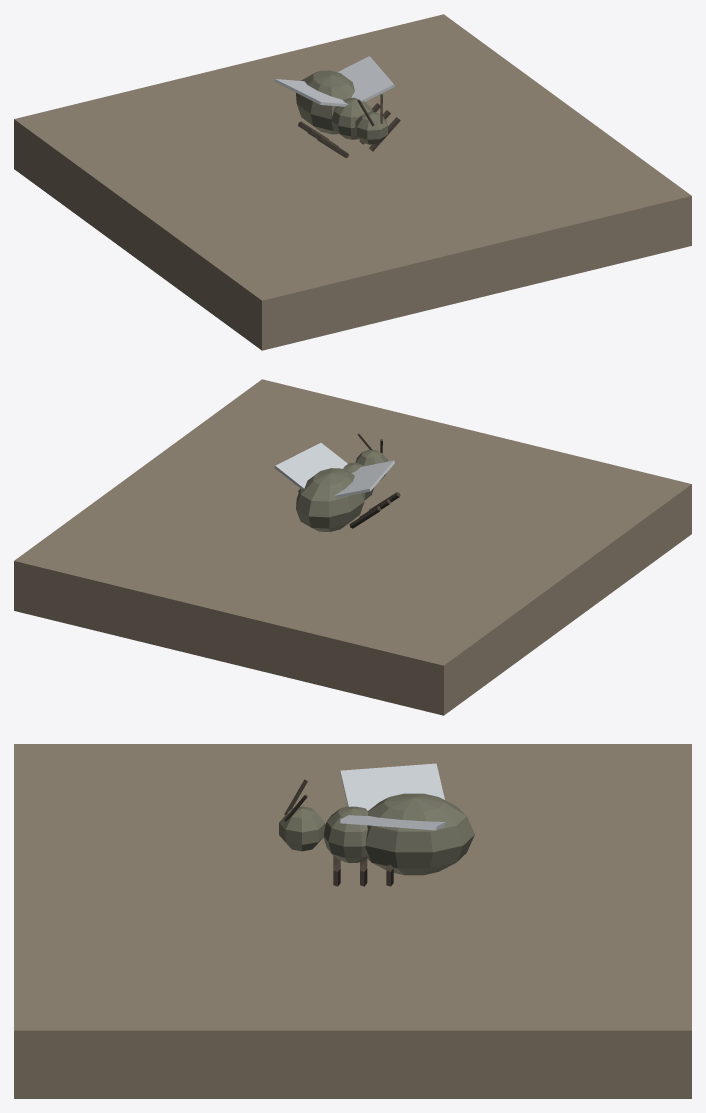
The model's file is bug_firefly.glb.
3 views of the same model, one above another, from view 1: azimuth 30°, elevation 25°; view 2: azimuth 150°, elevation 25°; view 3: azimuth 270°, elevation 25° (orthographic). The views are drawn at different scales.
Parts seen in each view (by area): view 1: Base, TurretMesh, HeadMesh; view 2: Base, TurretMesh; view 3: Base, TurretMesh, HeadMesh.
Part boxes in pixels (x1,y1,x2,y2): Base: (14, 14, 691, 350); TurretMesh: (274, 56, 400, 157); HeadMesh: (355, 94, 387, 144); Base: (14, 379, 691, 715); TurretMesh: (274, 443, 400, 531); Base: (14, 744, 691, 1098); TurretMesh: (323, 763, 474, 886); HeadMesh: (279, 779, 325, 851).
Size of the model in its own units: 1.8 by 0.4933 by 1.8.
